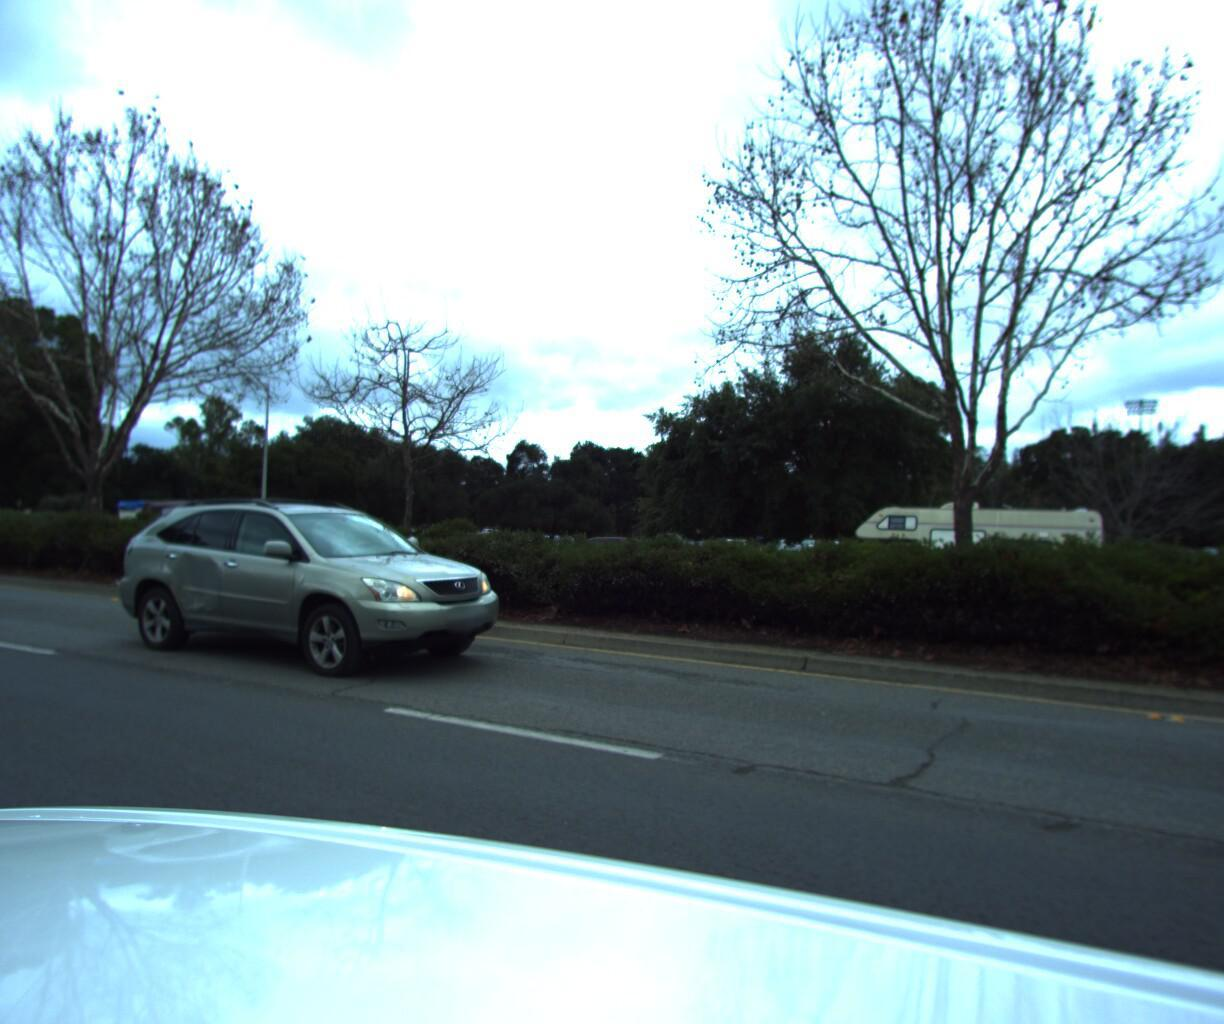car: (89, 482, 523, 686), (522, 524, 663, 583)
other_vehicle: (847, 495, 1107, 588), (110, 494, 232, 537)
